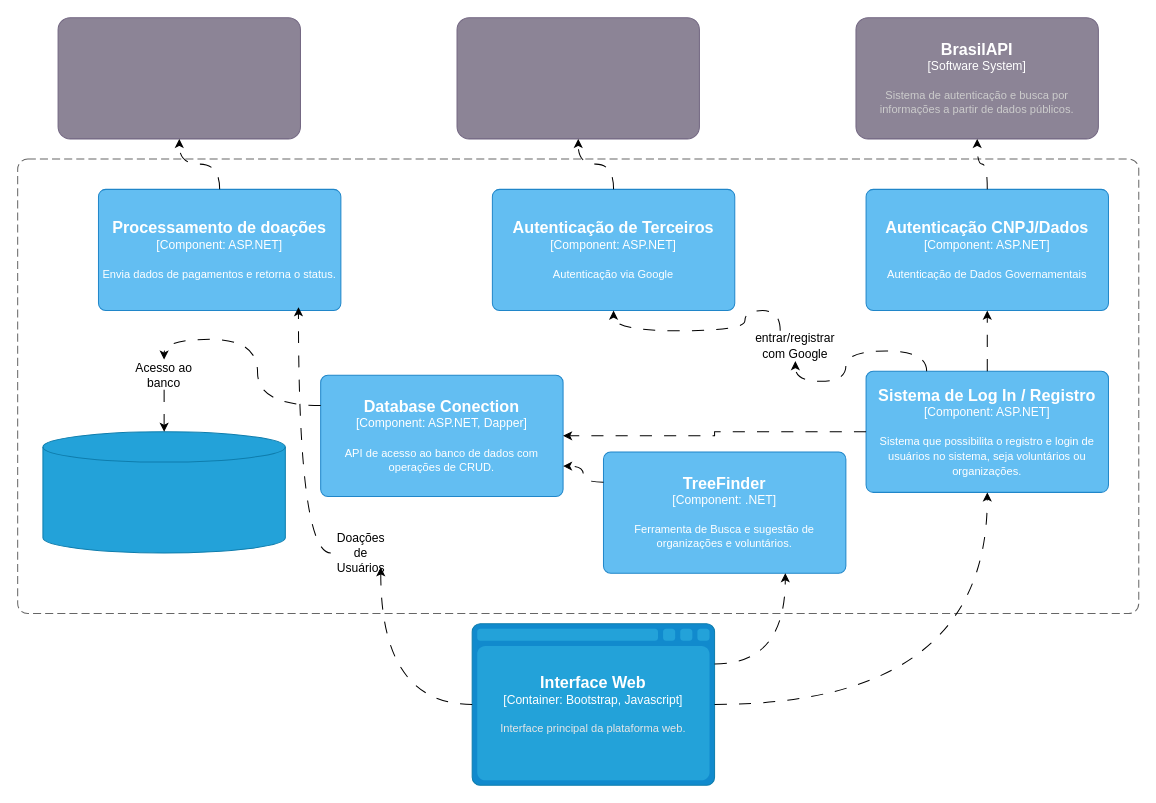
Some shapes in this 1156 by 803 pixel diagram are drawn without their labels. The shapes that lost their labels are listed below. From the top down, each one's box as (x1, y1, x2, y2) in pixels, then its label:
(57, 17, 300, 139): Sistema PayPal [Software System] Sistema de processamento de pagamentos externo
(456, 17, 699, 139): OAuth 2 [Software System] Sistema de autenticação de contas Google.
(17, 158, 1139, 614): API Interna [Container]
(42, 431, 285, 553): VolunTree Database [Container: SQLite] Banco de dados interno da aplicação
